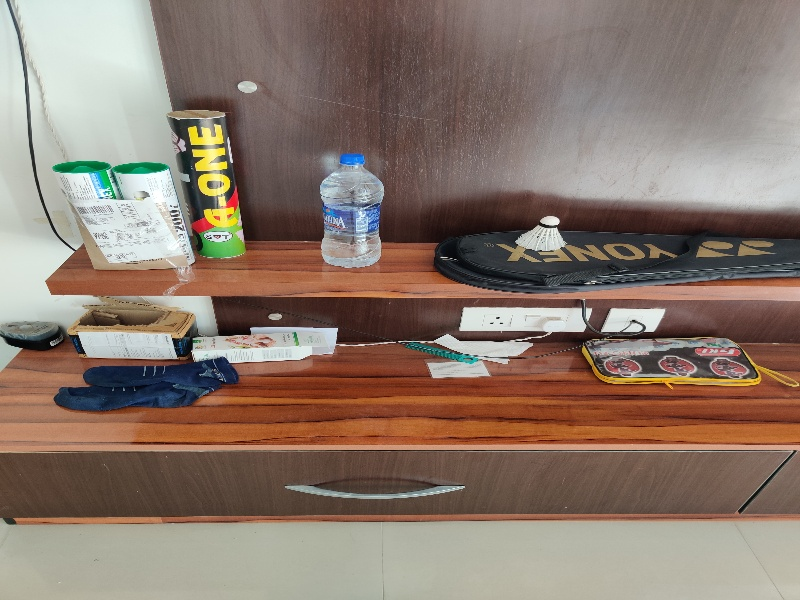bottle: (314, 146, 392, 271)
